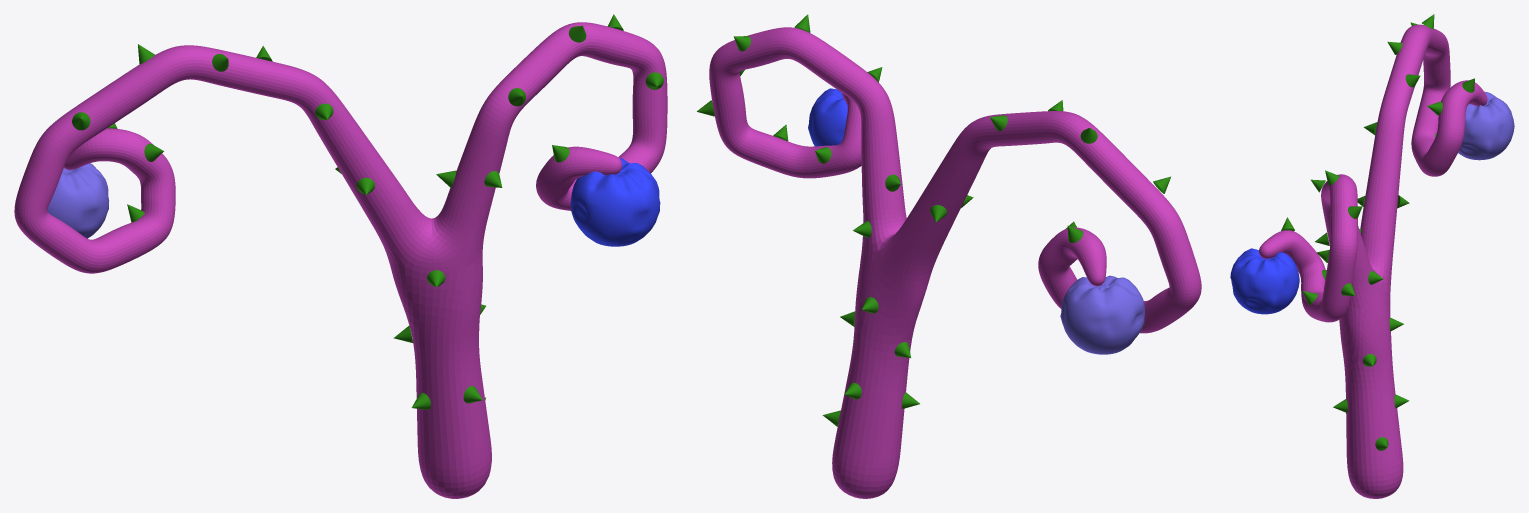
The model's file is weeds0.3.fbx.
The picture shows the model from 3 angles, left to right: view 1: azimuth 30°, elevation 25°; view 2: azimuth 150°, elevation 25°; view 3: azimuth 270°, elevation 25°; orthographic projection. The views are drawn at different scales.
Visible parts, largest first — view 1: Plane, Sphere.001, Sphere; view 2: Plane, Sphere, Sphere.001; view 3: Plane, Sphere.001, Sphere.
Boxes of the visible parts, x1,y1,x2,y2 form: Plane: [14, 22, 667, 498]; Sphere.001: [570, 158, 660, 246]; Sphere: [47, 163, 109, 238]; Plane: [709, 27, 1201, 498]; Sphere: [1060, 275, 1144, 354]; Sphere.001: [808, 88, 847, 146]; Plane: [1259, 24, 1487, 498]; Sphere.001: [1230, 248, 1299, 314]; Sphere: [1458, 91, 1514, 160].
Bounding box in the file's own units: 749 × 592 × 404.
